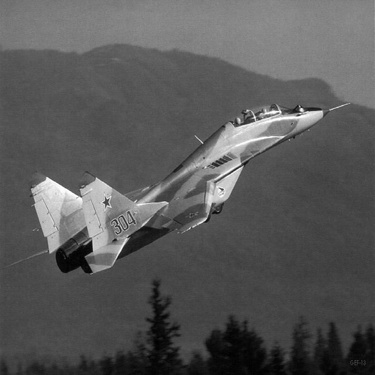airplane: (15, 90, 332, 276)
